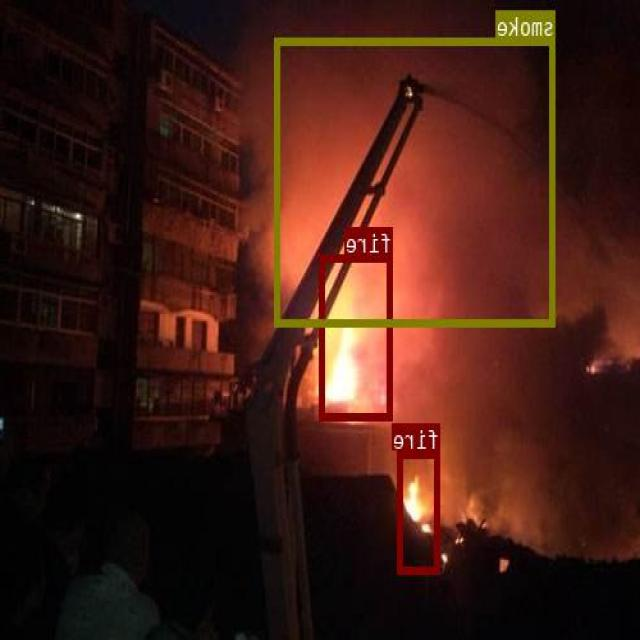fire: (320, 254, 394, 419), (399, 449, 441, 573)
smoke: (276, 37, 556, 324)
